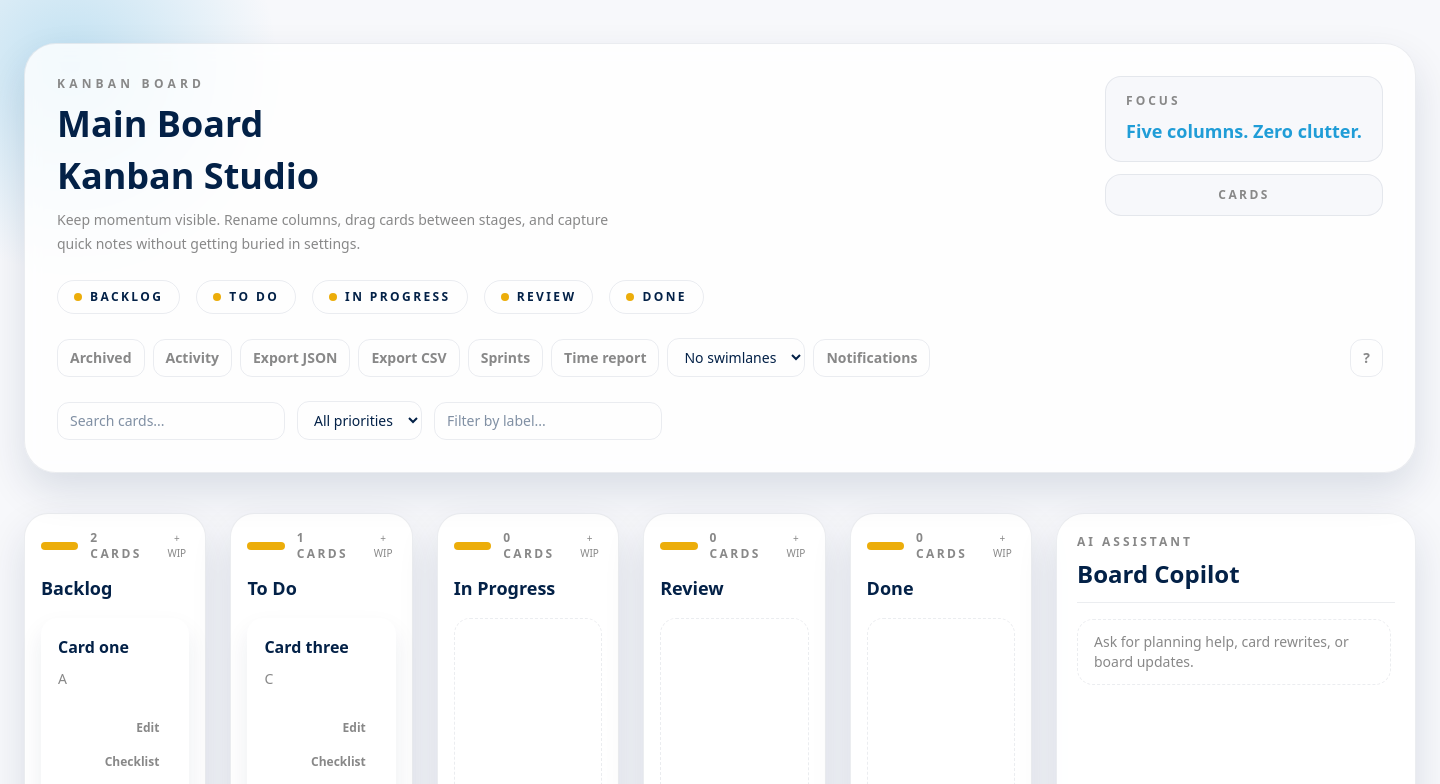
Test: KanbanBoard › shows error when rename board fails
Replace the text in the field named "Board name" with "Bad Name" at (281, 124), box [57,104,505,144]
(page scrolled)
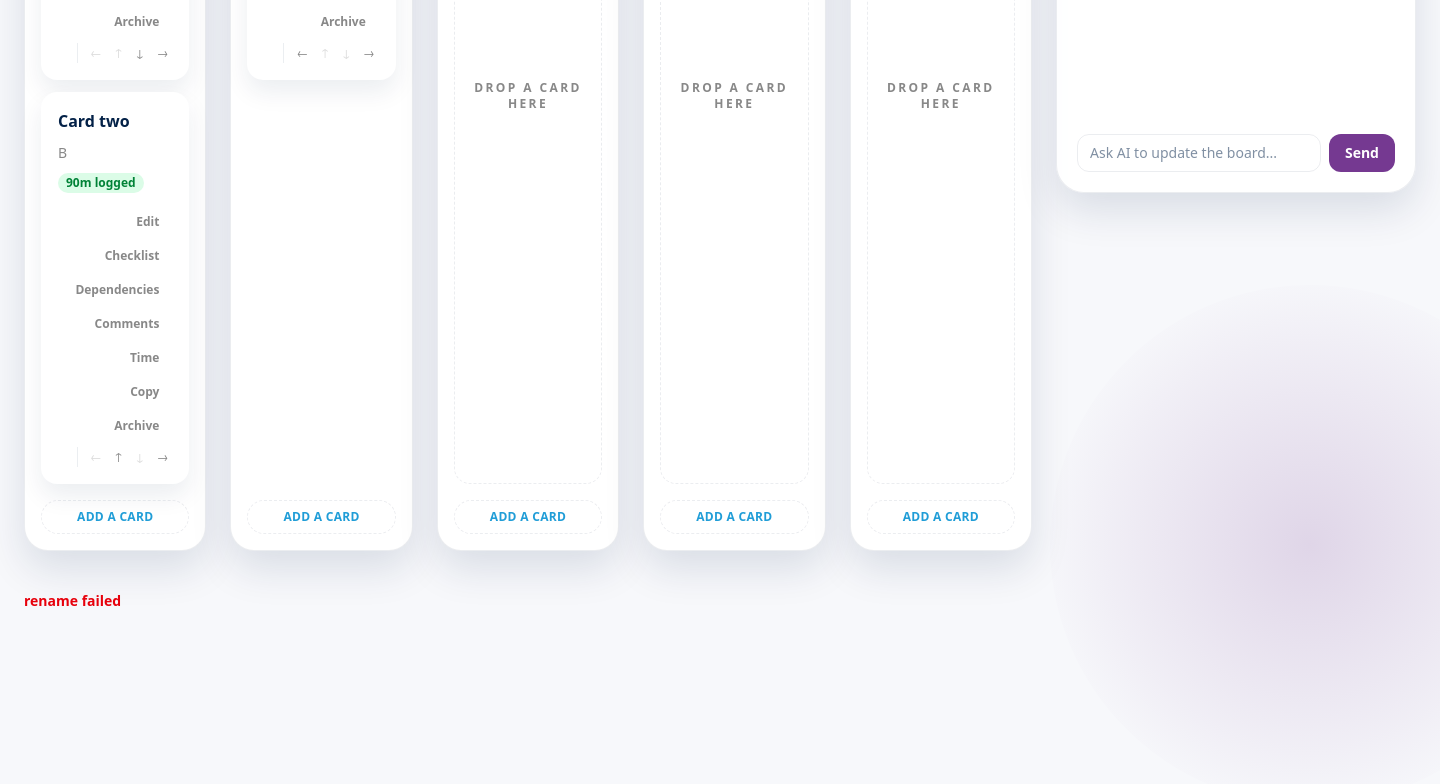
Check: the message reads "rename failed", box [24,591,121,610]
